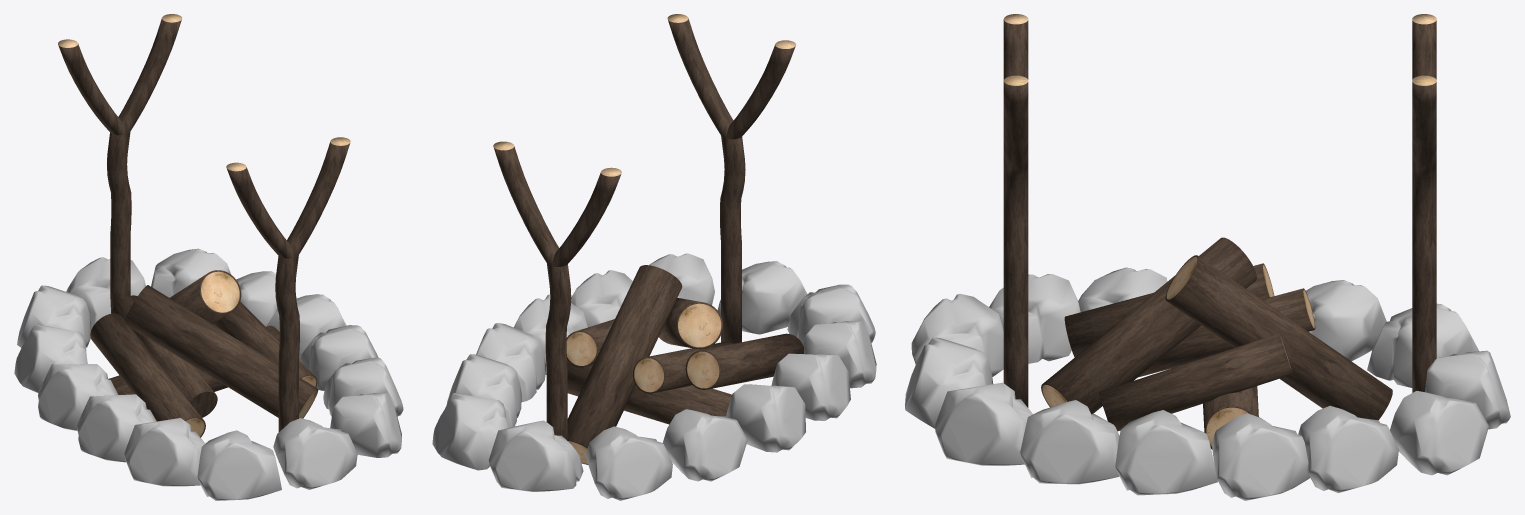
The model's file is Campfire.fbx.
The picture shows the model from 3 angles, left to right: view 1: azimuth 30°, elevation 25°; view 2: azimuth 150°, elevation 25°; view 3: azimuth 270°, elevation 25°; orthographic projection. The views are drawn at different scales.
Parts seen in each view (by area): view 1: Log, branch, SM_Rocks_01.002, SM_Rocks_01.013, SM_Rocks_01, SM_Rocks_01.012, SM_Rocks_01.001, SM_Rocks_01.011, SM_Rocks_01.010, SM_Rocks_01.004, SM_Rocks_01.009, SM_Rocks_01.003 (+4 smaller); view 2: Log, branch, SM_Rocks_01.008, SM_Rocks_01.009, SM_Rocks_01.010, SM_Rocks_01.011, SM_Rocks_01.007, SM_Rocks_01.012, SM_Rocks_01, SM_Rocks_01.013, SM_Rocks_01.005, SM_Rocks_01.006 (+4 smaller); view 3: Log, branch, SM_Rocks_01.004, SM_Rocks_01.003, SM_Rocks_01.005, SM_Rocks_01.001, SM_Rocks_01.006, SM_Rocks_01.007, SM_Rocks_01.010, SM_Rocks_01, SM_Rocks_01.009, SM_Rocks_01.002 (+3 smaller).
Part boxes in pixels (bbox=[...]): Log: bbox=[90, 270, 318, 437]; branch: bbox=[58, 14, 350, 461]; SM_Rocks_01.002: bbox=[197, 430, 281, 500]; SM_Rocks_01.013: bbox=[124, 418, 204, 486]; SM_Rocks_01: bbox=[273, 418, 357, 489]; SM_Rocks_01.012: bbox=[77, 394, 156, 462]; SM_Rocks_01.001: bbox=[330, 393, 401, 457]; SM_Rocks_01.011: bbox=[38, 364, 118, 430]; SM_Rocks_01.010: bbox=[14, 324, 87, 392]; SM_Rocks_01.004: bbox=[300, 325, 378, 390]; SM_Rocks_01.009: bbox=[17, 285, 91, 350]; SM_Rocks_01.003: bbox=[323, 357, 403, 416]; Log: bbox=[566, 265, 803, 464]; branch: bbox=[493, 14, 796, 440]; SM_Rocks_01.008: bbox=[488, 420, 583, 491]; SM_Rocks_01.009: bbox=[585, 426, 672, 500]; SM_Rocks_01.010: bbox=[663, 409, 747, 481]; SM_Rocks_01.011: bbox=[726, 384, 805, 452]; SM_Rocks_01.007: bbox=[432, 393, 507, 470]; SM_Rocks_01.012: bbox=[771, 353, 850, 420]; SM_Rocks_01: bbox=[717, 261, 807, 334]; SM_Rocks_01.013: bbox=[803, 321, 876, 388]; SM_Rocks_01.005: bbox=[476, 323, 546, 401]; SM_Rocks_01.006: bbox=[446, 354, 521, 427]; Log: bbox=[1041, 237, 1392, 449]; branch: bbox=[1003, 14, 1436, 407]; SM_Rocks_01.004: bbox=[1115, 410, 1217, 495]; SM_Rocks_01.003: bbox=[1020, 400, 1119, 484]; SM_Rocks_01.005: bbox=[1212, 413, 1310, 500]; SM_Rocks_01.001: bbox=[934, 382, 1032, 465]; SM_Rocks_01.006: bbox=[1298, 406, 1398, 493]; SM_Rocks_01.007: bbox=[1390, 391, 1488, 475]; SM_Rocks_01.010: bbox=[1306, 280, 1386, 361]; SM_Rocks_01: bbox=[905, 337, 993, 428]; SM_Rocks_01.009: bbox=[1367, 303, 1478, 387]; SM_Rocks_01.002: bbox=[911, 294, 1003, 376].
Size of the model in its own units: 104 by 101 by 145.
